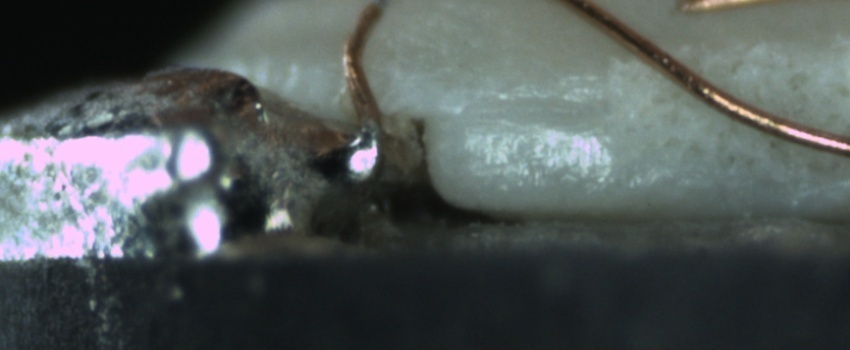DL: (469, 84, 597, 154)
